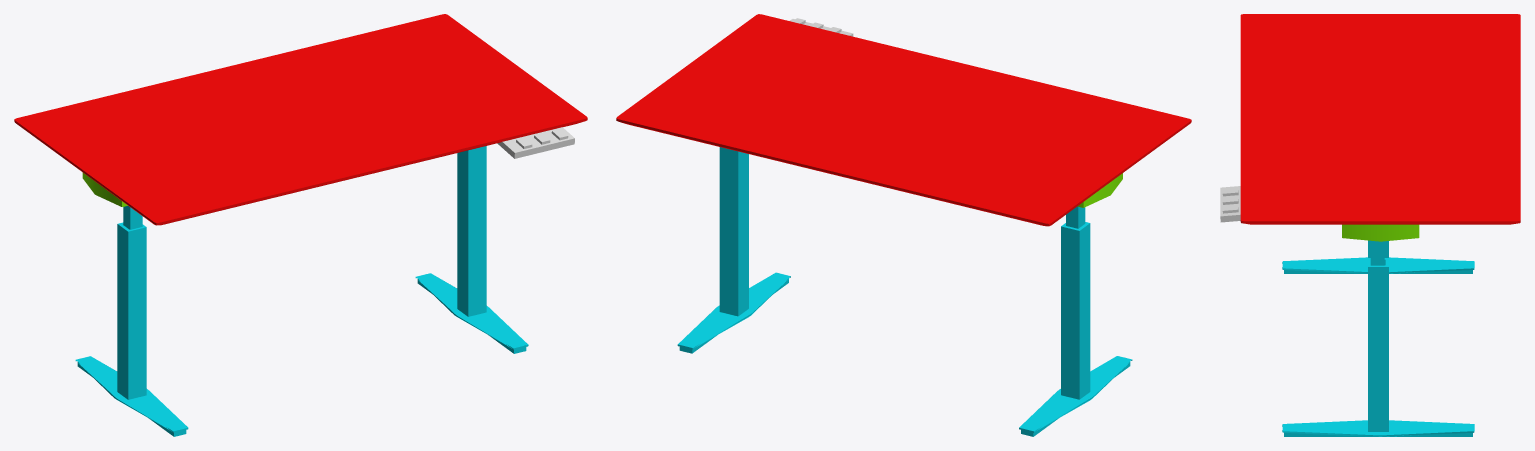
File: Adjustable_Table.fbx
The picture shows the model from 3 angles, left to right: view 1: azimuth 30°, elevation 25°; view 2: azimuth 150°, elevation 25°; view 3: azimuth 270°, elevation 25°; orthographic projection. The views are drawn at different scales.
Visible parts, largest first — view 1: Box001, Box001.001, Cube; view 2: Box001, Box001.001; view 3: Box001, Box001.001, Cube.
Part boxes in pixels (x1=…): Box001: x1=14, y1=14, x2=587, y2=229; Box001.001: x1=75, y1=146, x2=528, y2=436; Cube: x1=497, y1=127, x2=574, y2=158; Box001: x1=616, y1=14, x2=1191, y2=228; Box001.001: x1=677, y1=147, x2=1132, y2=436; Box001: x1=1240, y1=14, x2=1520, y2=265; Box001.001: x1=1282, y1=240, x2=1474, y2=436; Cube: x1=1220, y1=186, x2=1240, y2=222.
Size of the model in its own units: 200 by 106 by 123.
